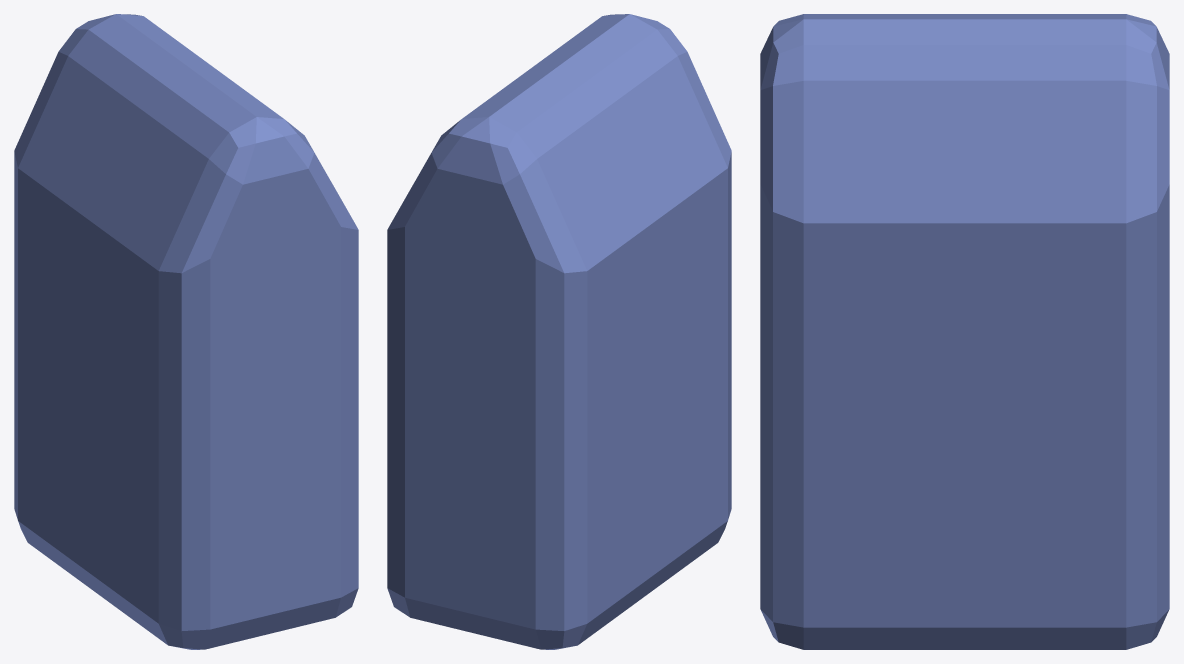
The model's file is lixo_azul.glb.
3 renders of one model, left to right at view 1: azimuth 30°, elevation 25°; view 2: azimuth 150°, elevation 25°; view 3: azimuth 270°, elevation 25°, orthographic. The views are drawn at different scales.
Parts seen in each view (by area): view 1: lixeiras.003; view 2: lixeiras.003; view 3: lixeiras.003.
Boxes of the visible parts, <box> form: lixeiras.003: <box>14,14,358,649</box>; lixeiras.003: <box>387,14,731,649</box>; lixeiras.003: <box>760,14,1169,649</box>.
Bounding box in the file's own units: 0.3808 × 0.9586 × 0.5996.
